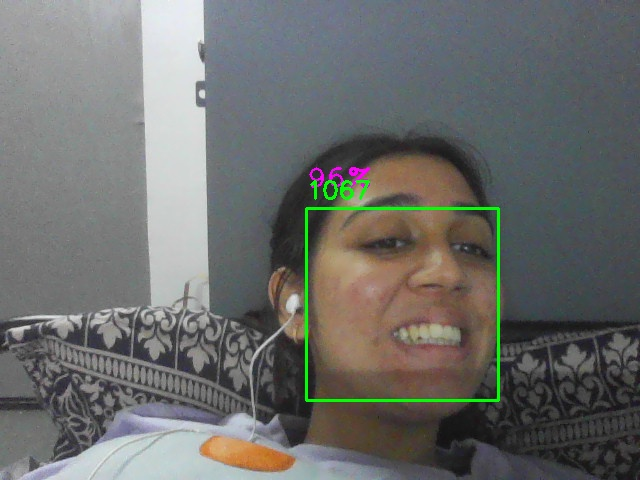real: (306, 208, 499, 401)
